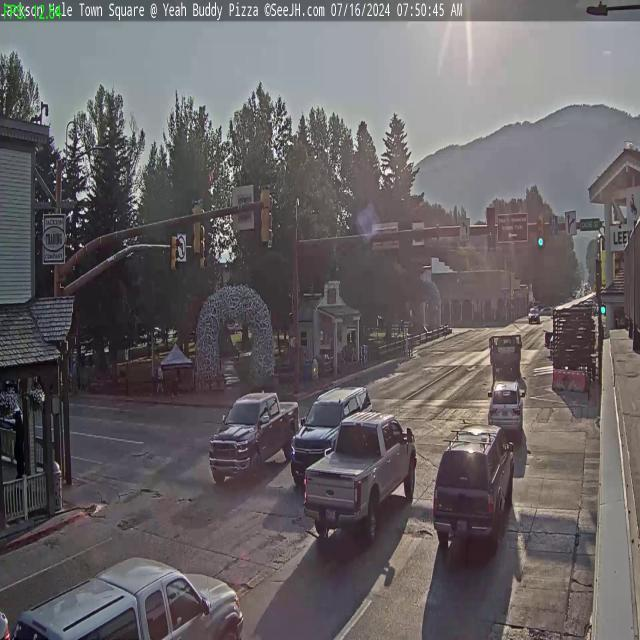pickup: (302, 406, 420, 537), (208, 385, 296, 489)
suv: (7, 550, 245, 640), (433, 424, 513, 548), (288, 386, 372, 469), (487, 375, 525, 435)
traffic light: (190, 200, 203, 257), (260, 184, 272, 244), (169, 229, 179, 279), (486, 207, 496, 252), (537, 215, 545, 248)
